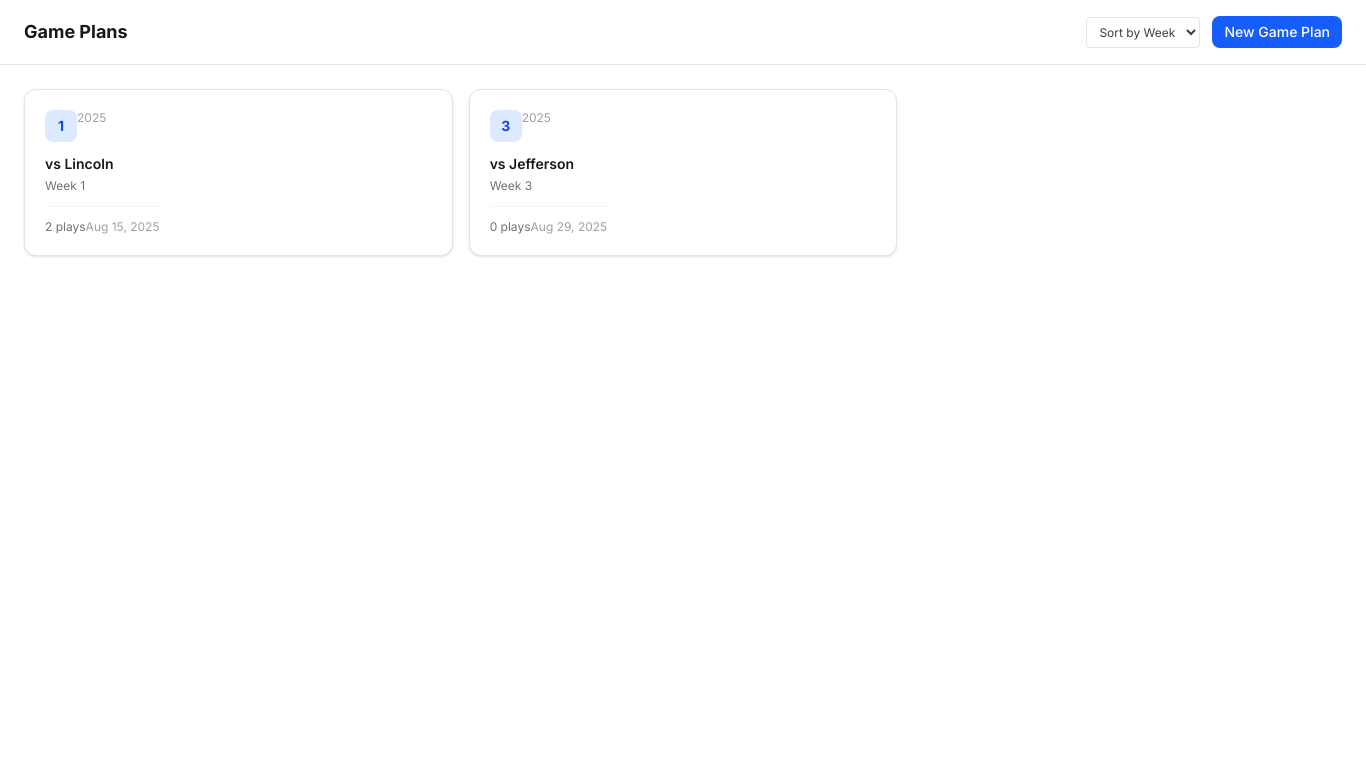
GamePlanListPage › validates opponent name is required
Click the button with test id "new-gameplan-btn": (1277, 32) top-left (1212, 16), bottom-right (1342, 48)
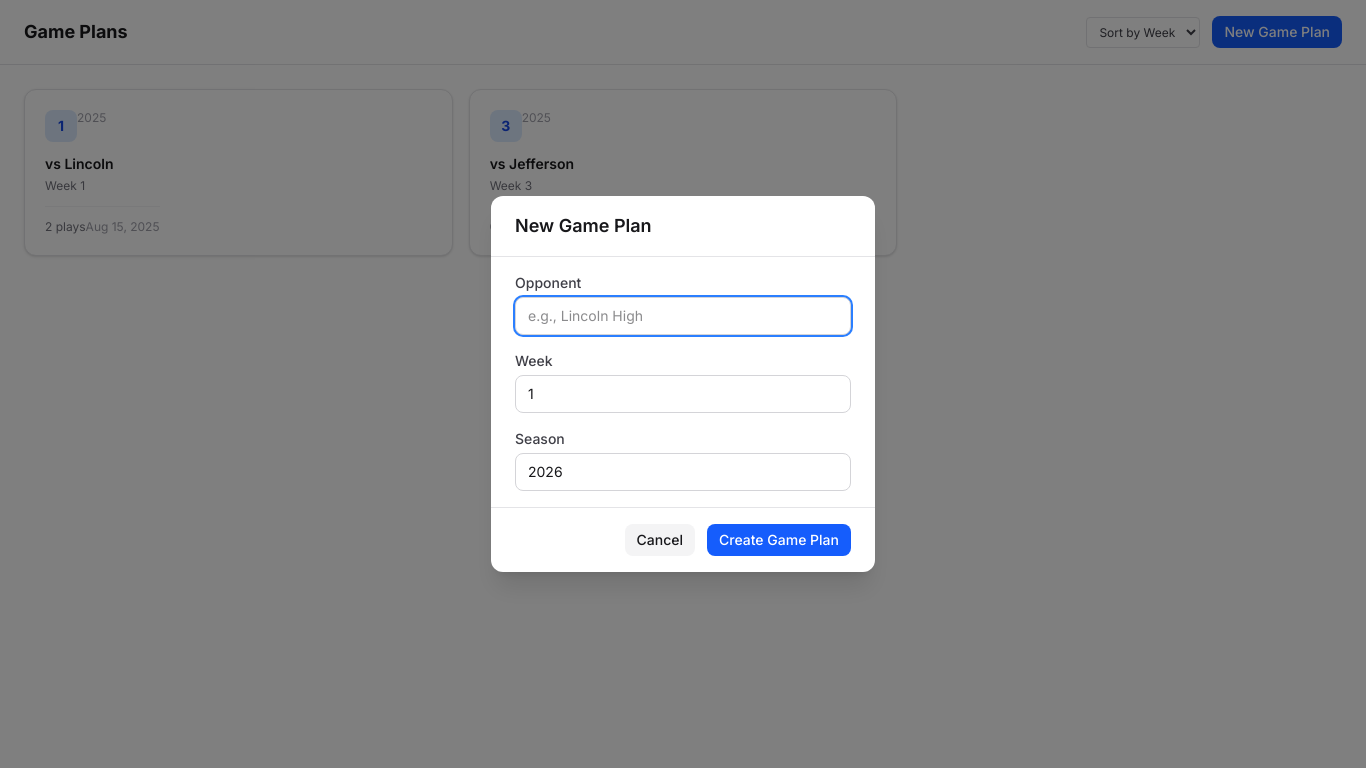
Click the button with test id "create-gameplan-btn": (779, 540) top-left (707, 524), bottom-right (851, 556)
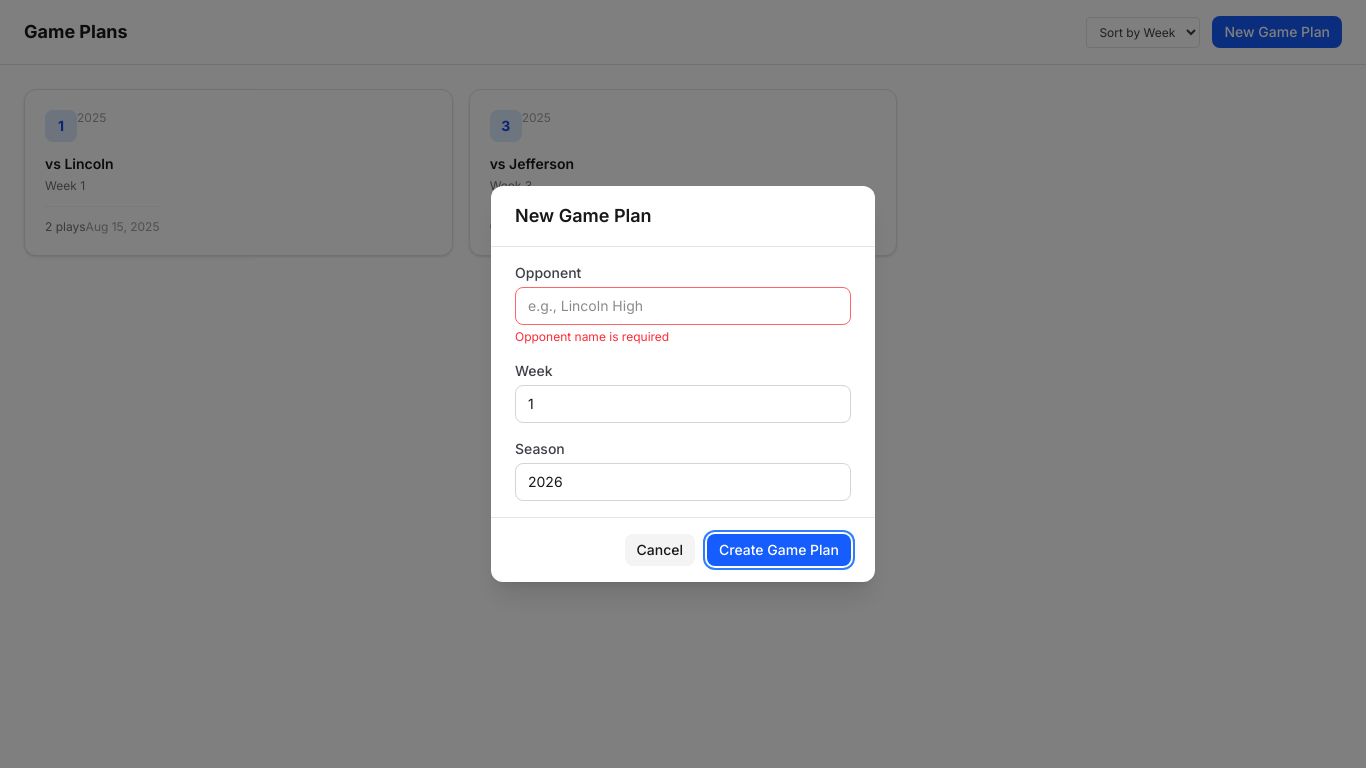
Expected: the text with test id "form-error" reads "Opponent name is required", top-left (515, 329), bottom-right (669, 344)
